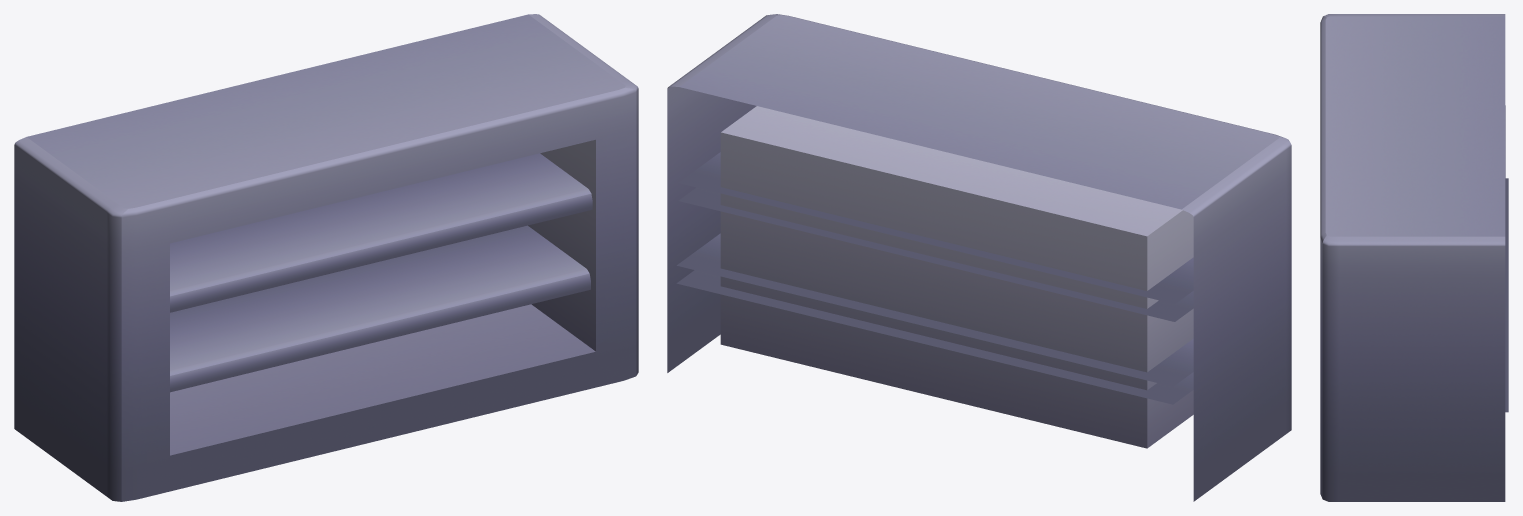
The model's file is asset_LowShelf.fbx.
3 renders of one model, left to right at view 1: azimuth 30°, elevation 25°; view 2: azimuth 150°, elevation 25°; view 3: azimuth 270°, elevation 25°, orthographic. The views are drawn at different scales.
Visible parts, largest first — view 1: asset_LowShelf; view 2: asset_LowShelf; view 3: asset_LowShelf.
Part boxes in pixels (x1,y1,x2,y2): asset_LowShelf: (14,14,638,501); asset_LowShelf: (667,14,1291,501); asset_LowShelf: (1320,14,1508,501).
Size of the model in its own units: 192 by 101 by 66.14.
Materials: 1 (1 with a texture image).
